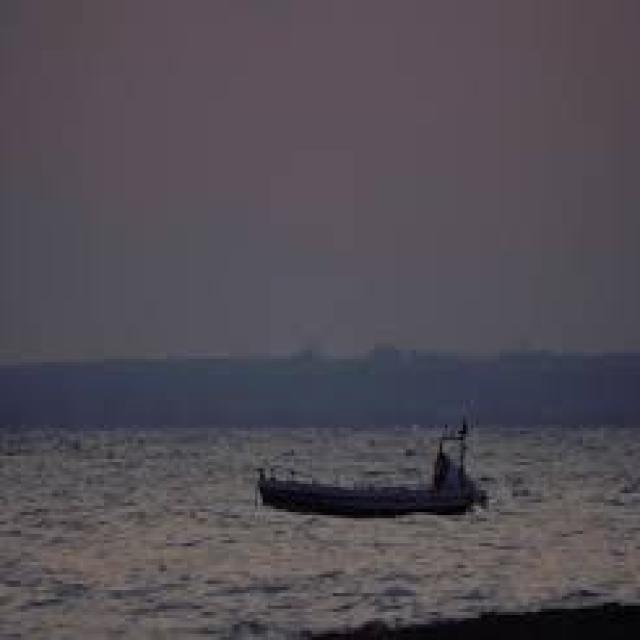houseboat: (252, 421, 487, 512)
